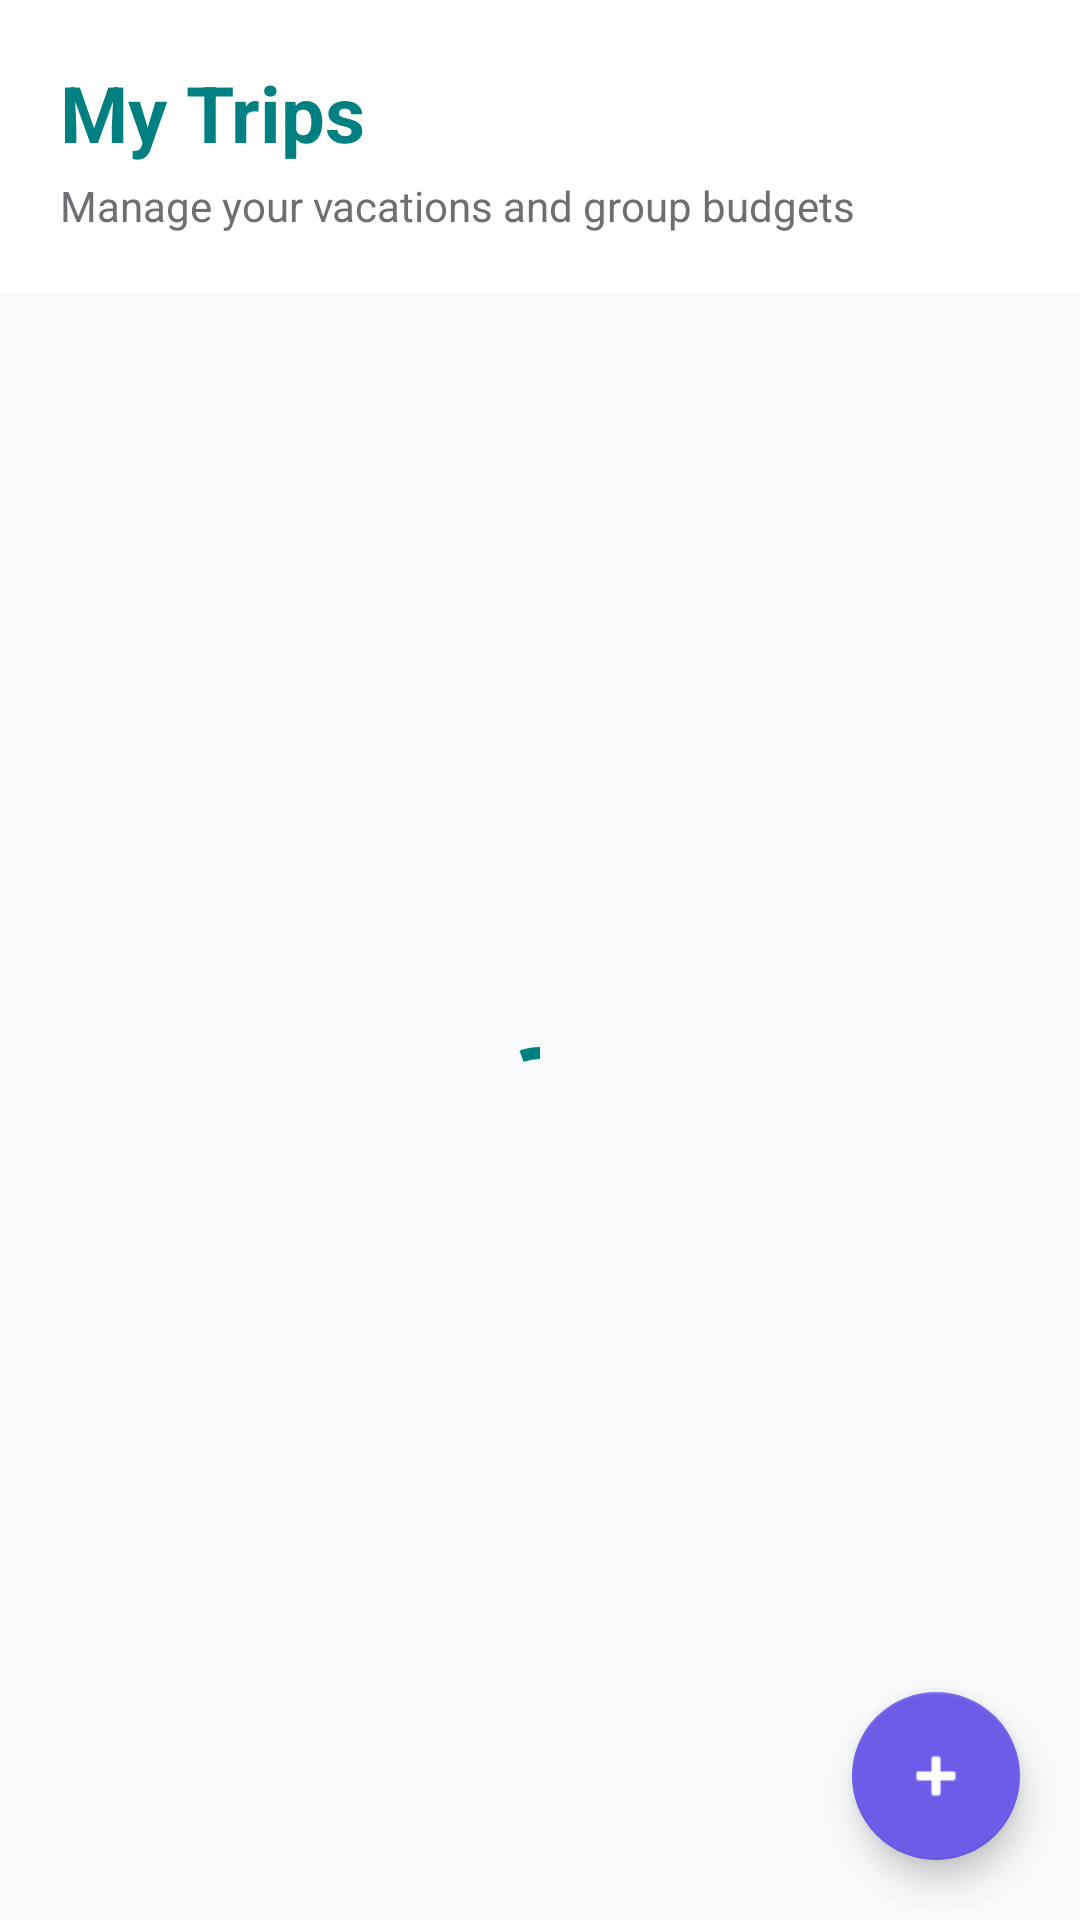

Where icons sit on this 1080 x 1920 app screen, as (x1, y1, x2, y2):
Create Trip: (852, 1692, 1020, 1860)
